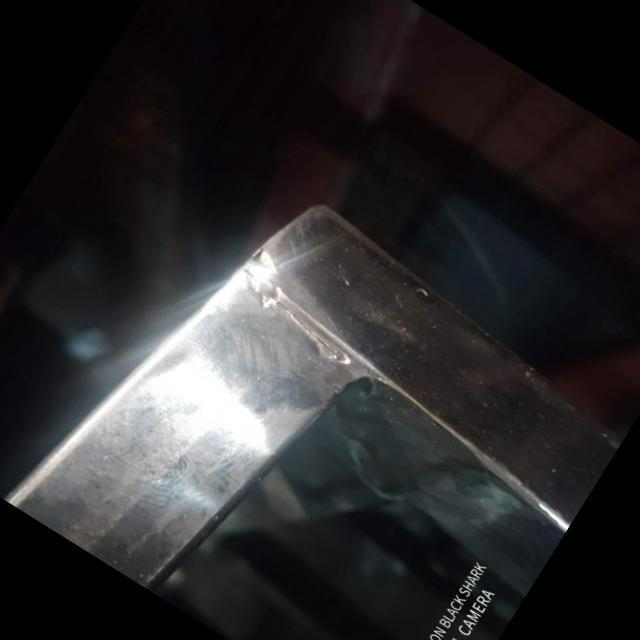defect: (274, 298, 344, 362)
